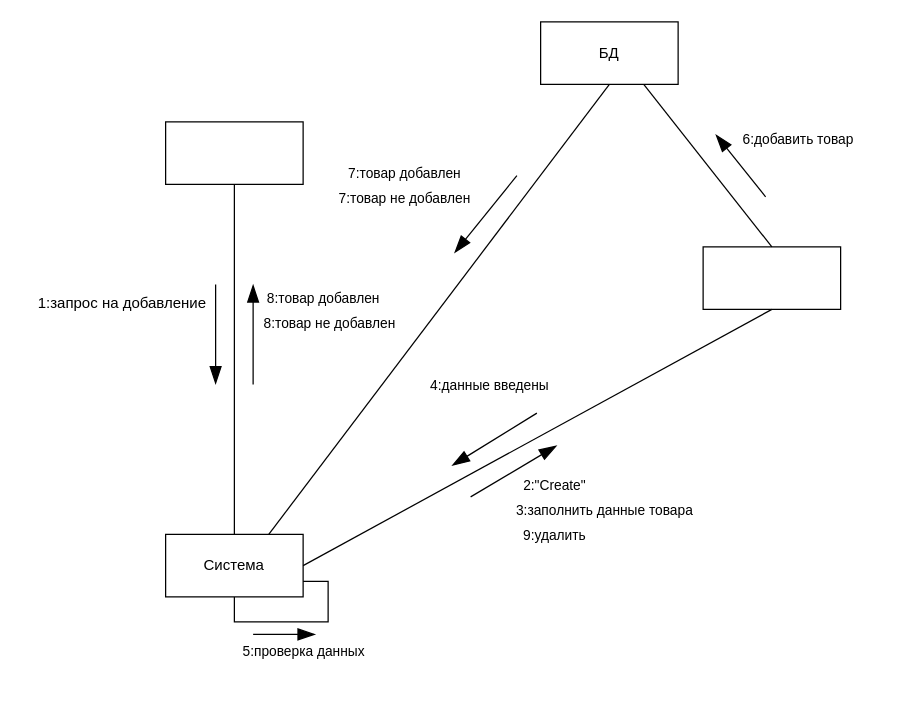
Some shapes in this 911 by 706 pixel diagram are drawn without their labels. The centre of each missing label's shape, as x and y in pixels:
"Пользователь" goes at [233,152].
"Товар" goes at [771,277].
